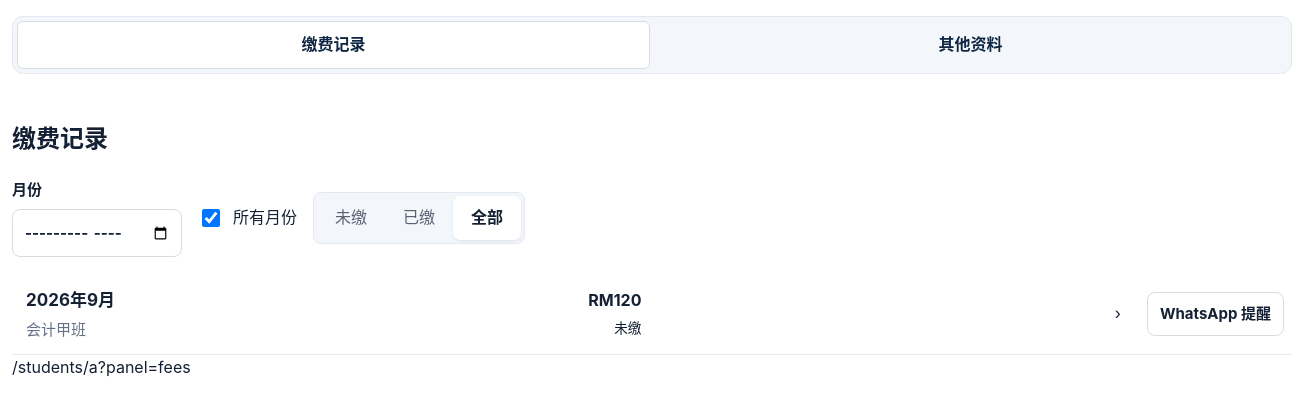
Test: does not let a delayed first student response overwrite the second student
Click the button named "查看记录" at point(70, 300), box [12,273,1135,354]
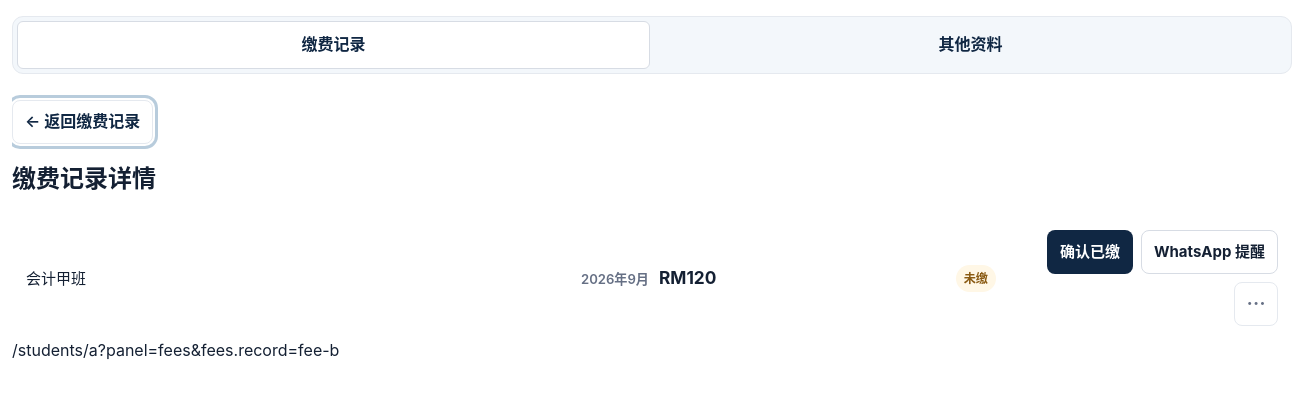
expect the text with test id "url" shows "fees.record=fee-b": met, box [12,340,339,360]
